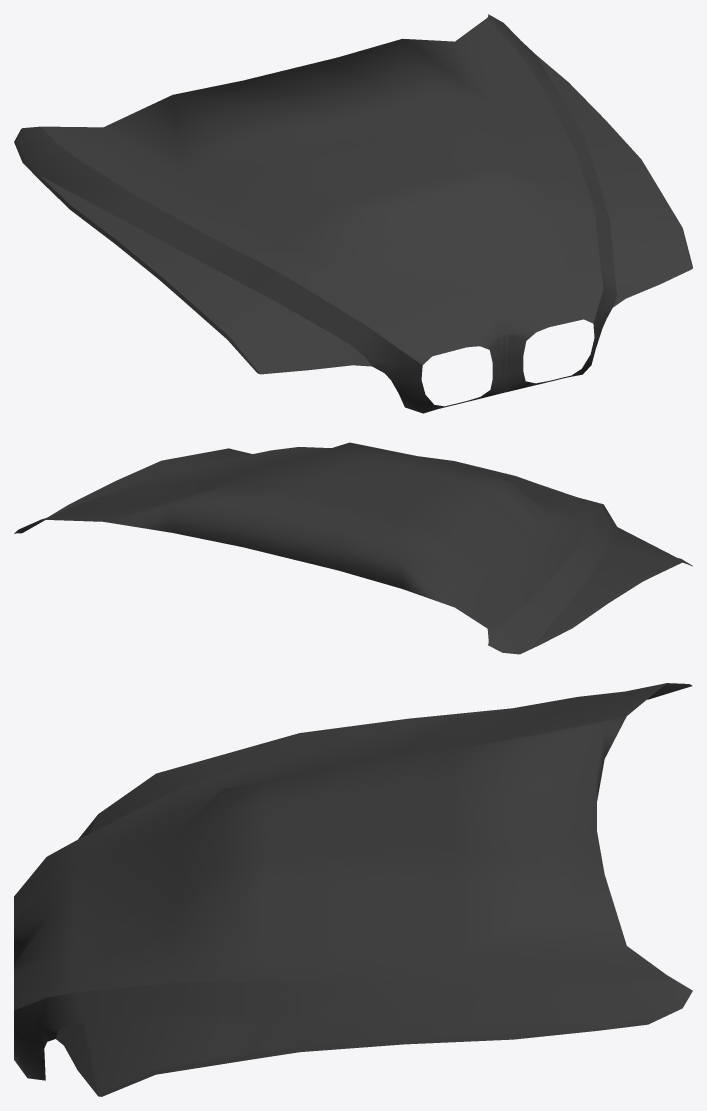
Rendered from Hood2.fbx.
3 views of the same model, one above another, from view 1: azimuth 30°, elevation 25°; view 2: azimuth 150°, elevation 25°; view 3: azimuth 270°, elevation 25° (orthographic). The views are drawn at different scales.
Parts seen in each view (by area): view 1: CarColorObject.021; view 2: CarColorObject.021; view 3: CarColorObject.021.
Part boxes in pixels (x1,y1,x2,y2): CarColorObject.021: (14,14,692,413); CarColorObject.021: (14,442,692,654); CarColorObject.021: (14,683,692,1096).
Bounding box in the file's own units: 174 × 56.23 × 152.
